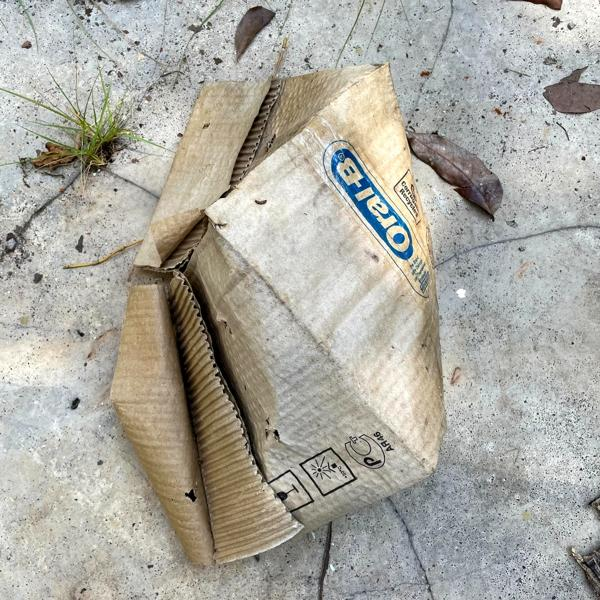Organik: (97, 65, 455, 560)
